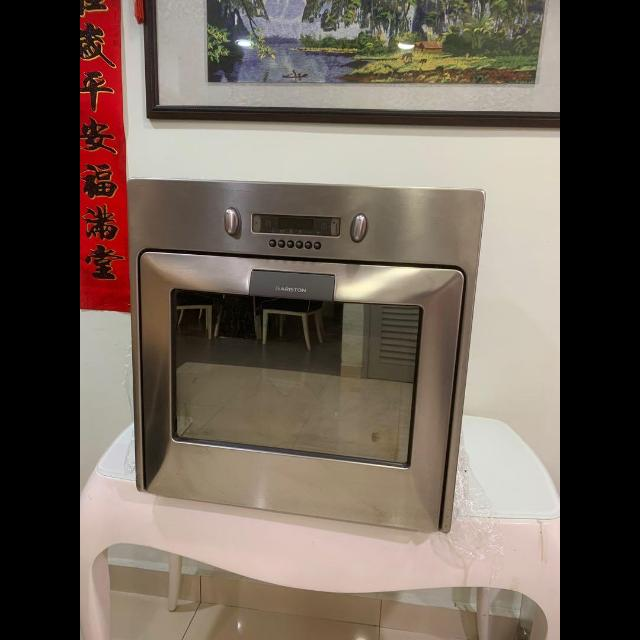Oven: (124, 175, 476, 541)
